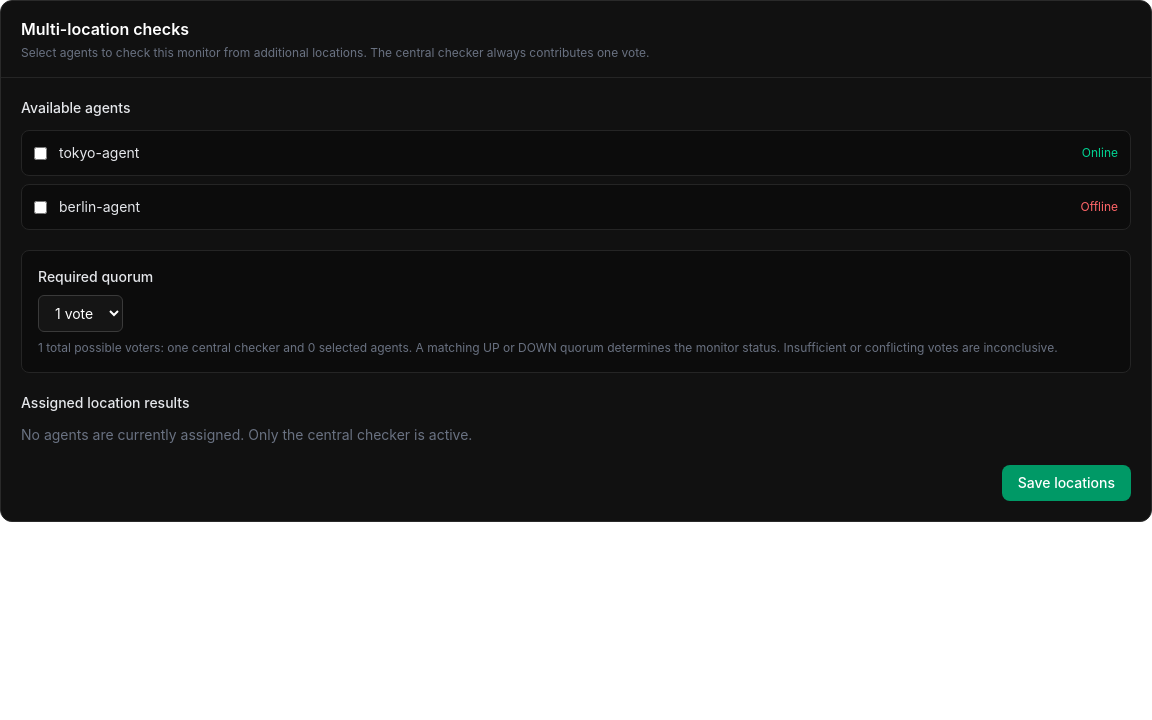
Test: MonitorLocationsPanel › saves the selected agents and quorum with a PUT
expect the text "No agents are currently assigned" is shown: met, box [21, 426, 472, 443]
Click the checkbox labelled "tokyo-agent online" at (40, 153), box [34, 146, 47, 160]
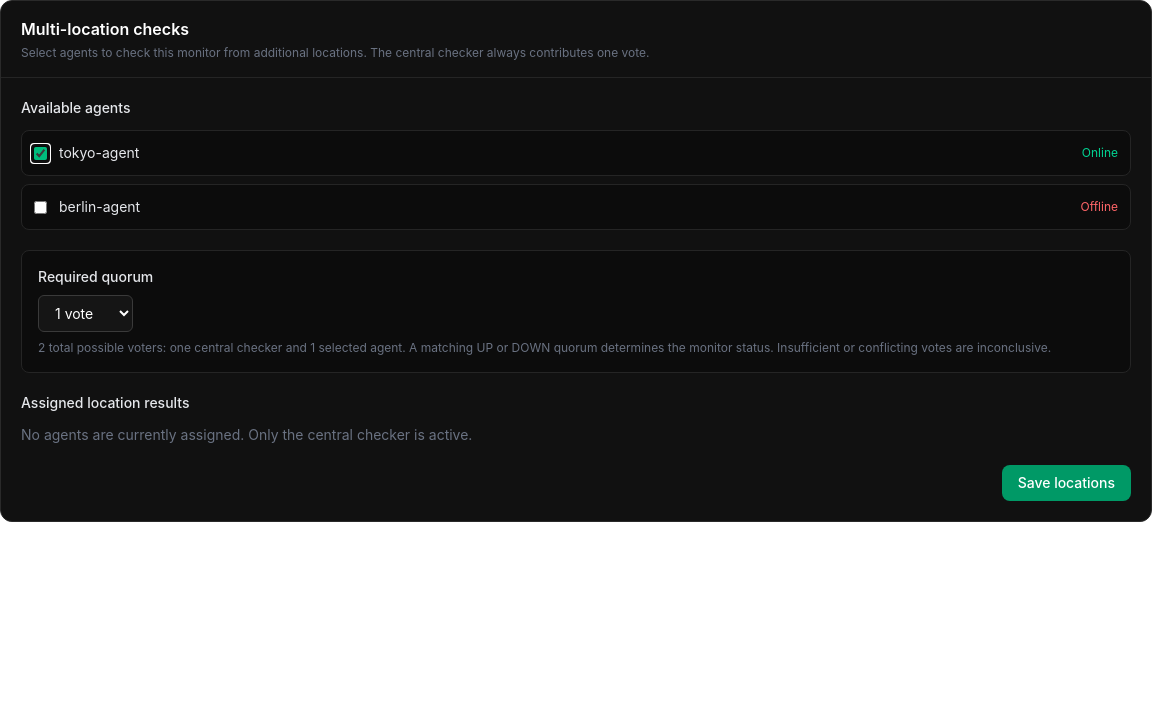
Select "2 votes" in the dropdown labelled "Required quorum" at (86, 314), box [38, 295, 133, 332]
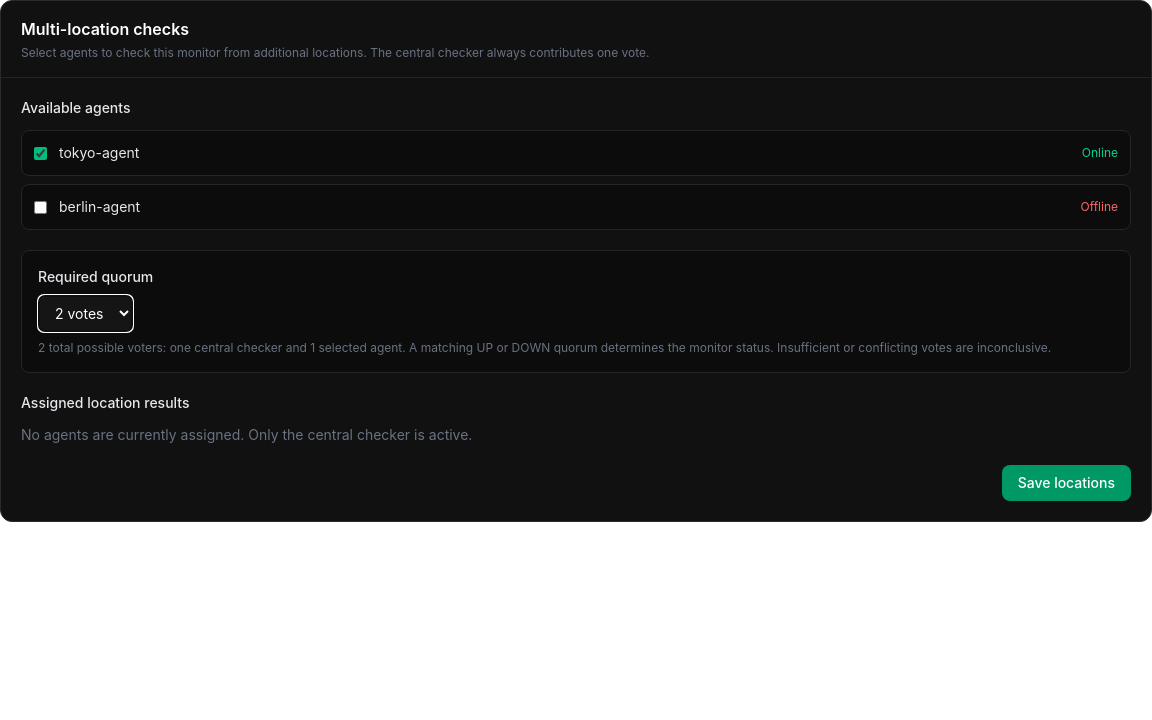
Click the button "Save locations" at (1066, 483), box [1002, 465, 1131, 501]
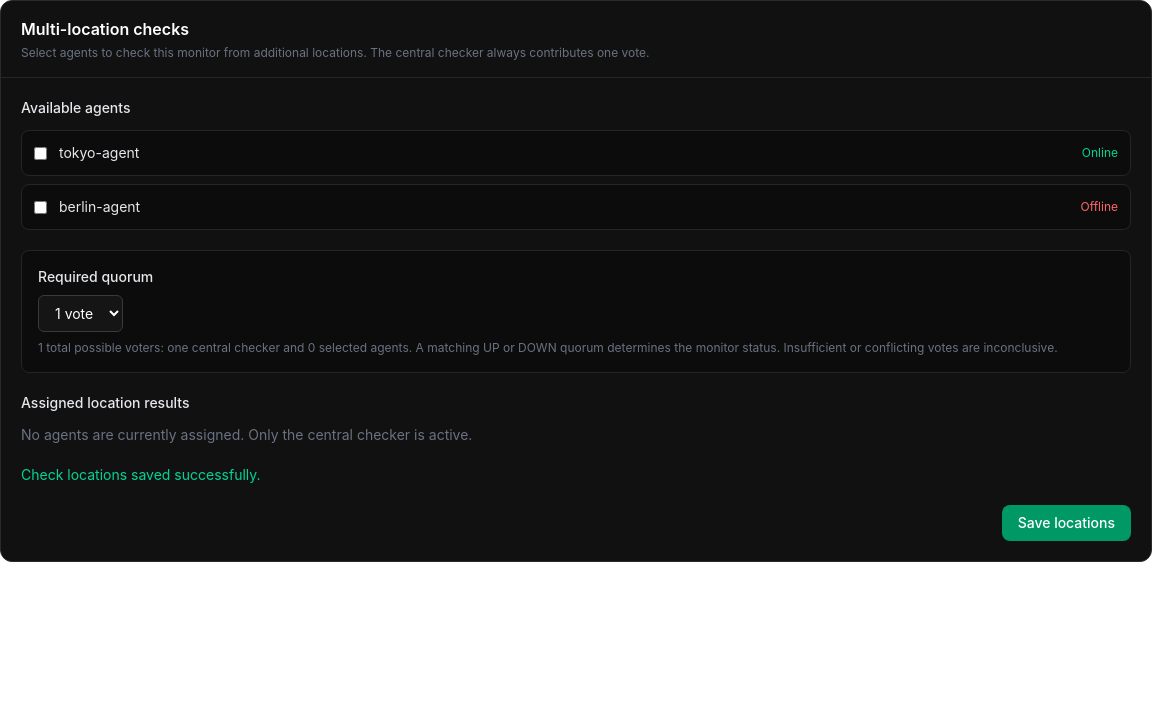
expect the text "Check locations saved successfully." is shown: met, box [21, 466, 260, 483]
